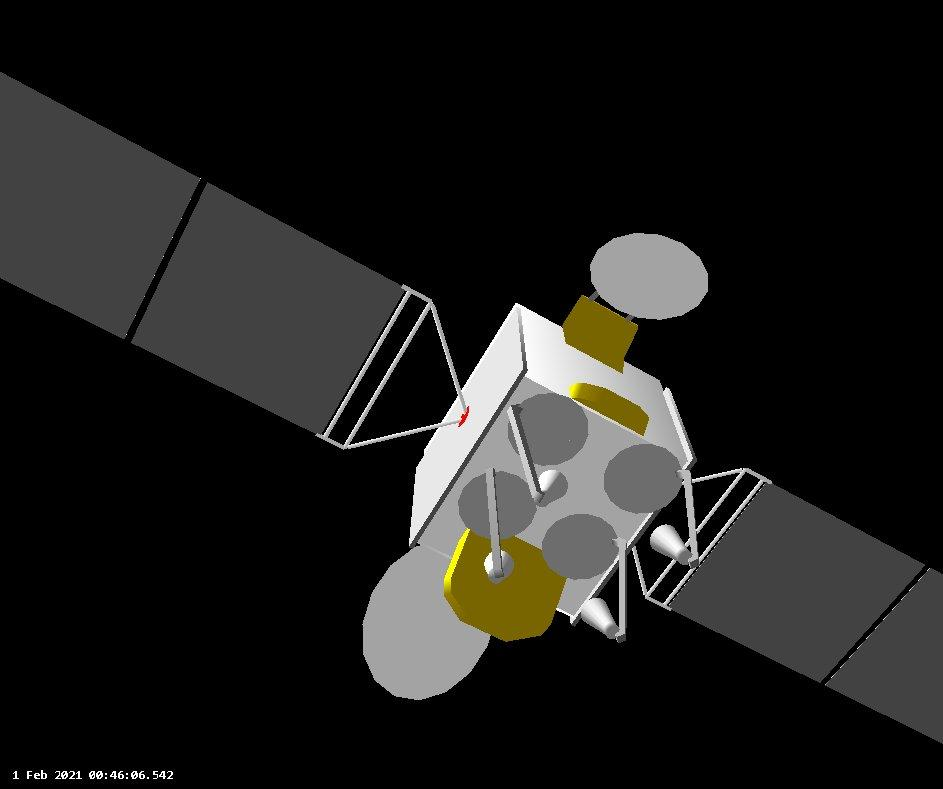antenna: (359, 543, 496, 701), (589, 228, 711, 327), (602, 438, 686, 517), (504, 390, 589, 464), (457, 469, 536, 541), (540, 513, 616, 579)
body: (404, 297, 702, 631)
solar: (0, 55, 473, 457), (632, 464, 943, 740)
